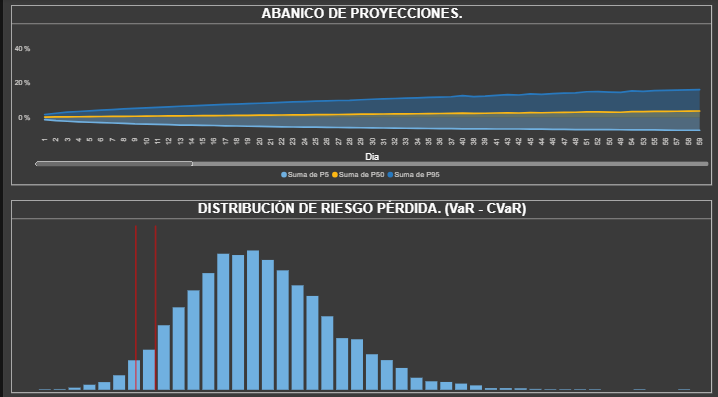

Layout of this report page (visuals, bound fields, positions):
{"tool":"powerbi","page":{"name":"PROYECCIÓN Y GESTIÓN DE RIESGO. (MONTECARLO)","canvas":[1280,720],"ordinal":3},"visuals":[{"type":"areaChart","title":"ABANICO DE PROYECCIONES.","fields":{"Category":["Proyecciones_Trayectorias.Dia"],"Y":["Sum(Proyecciones_Trayectorias.P5)","Sum(Proyecciones_Trayectorias.P50)","Sum(Proyecciones_Trayectorias.P95)"]},"box":[13.4,13.4,1253.3,322.4],"z":0},{"type":"clusteredColumnChart","title":"DISTRIBUCIÓN DE RIESGO PÉRDIDA. (VaR - CVaR)","fields":{"Category":["Distribucion_Riesgo.Retorno_Final (ubicaciones)"],"Y":["Count(Distribucion_Riesgo.Retorno_Final)"]},"box":[13.4,360.5,1253.3,345.3],"z":1000}]}

Visuals, with their boxes in screenshot pixels (x1, y1, x2, y2), scaled from the page's 1280x720 canvas onto the 718x397 screenshot:
"ABANICO DE PROYECCIONES." areaChart: bbox(8, 7, 711, 185)
"DISTRIBUCIÓN DE RIESGO PÉRDIDA. (VaR - CVaR)" clusteredColumnChart: bbox(8, 199, 711, 389)
